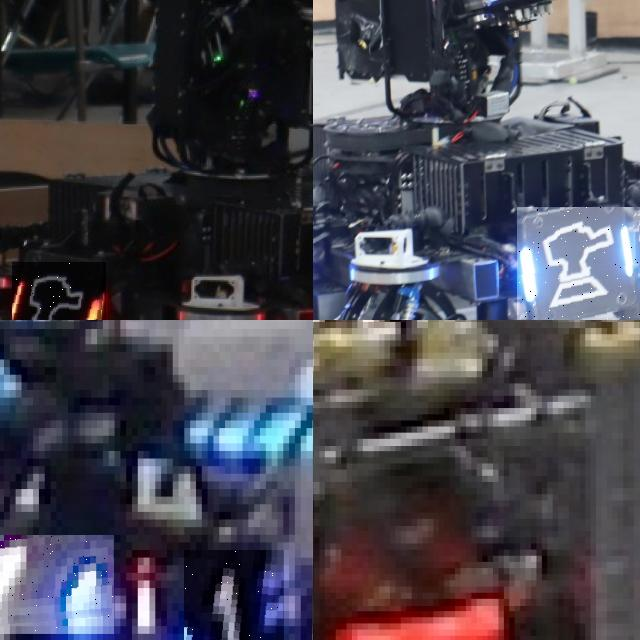B1: (0, 535, 114, 634), (184, 549, 283, 640)
Bs: (517, 207, 640, 320)
Rs: (11, 262, 106, 320)
